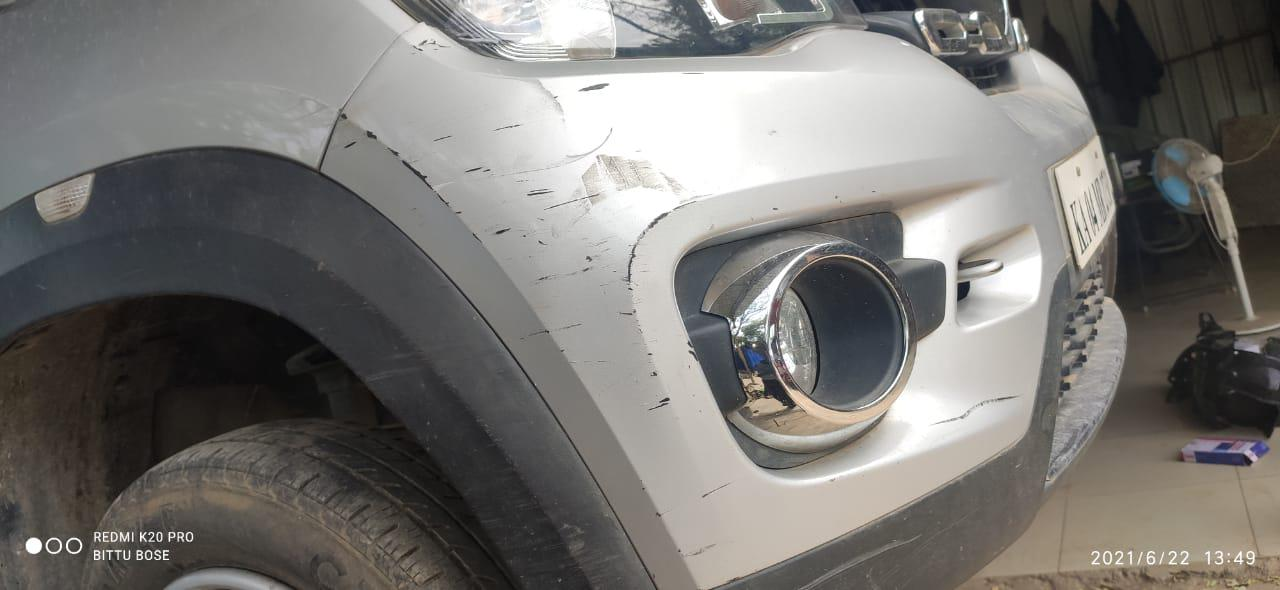front-bumper-dent: (341, 39, 1020, 589)
